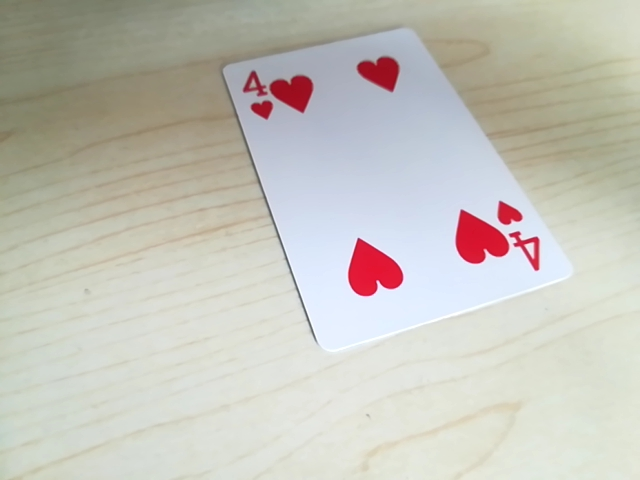hx 4: (497, 197, 547, 276), (236, 62, 271, 130)
